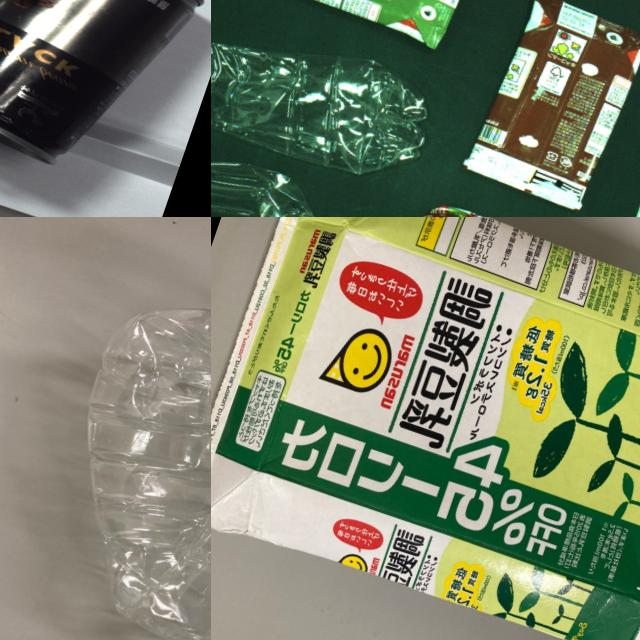Aluminium Foil: (211, 217, 640, 640), (461, 0, 640, 209), (211, 0, 473, 56)
Can: (211, 0, 435, 192), (0, 0, 210, 190), (211, 112, 317, 217), (382, 186, 557, 217)
Transparent Plastic Bottle: (0, 265, 211, 640)
